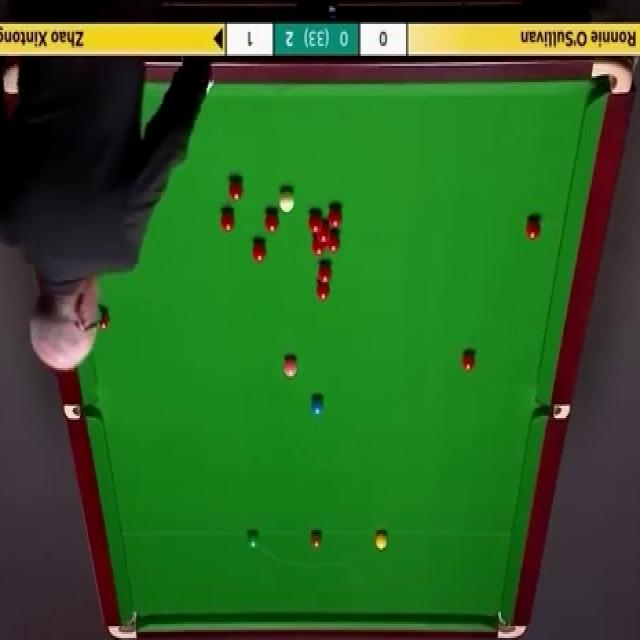blue-ball: (310, 394, 325, 418)
brown-ball: (310, 530, 323, 550)
green-ball: (247, 530, 260, 551)
pink-ball: (280, 352, 300, 380)
red-ball: (226, 174, 244, 201), (524, 217, 541, 240), (264, 209, 280, 233), (251, 240, 267, 264), (220, 208, 236, 232), (459, 351, 476, 373), (96, 307, 111, 331), (308, 210, 324, 232), (317, 262, 332, 283), (328, 206, 342, 228), (326, 230, 341, 250), (311, 237, 326, 256), (316, 279, 331, 298), (317, 225, 330, 242)
white-ball: (278, 186, 296, 212)
yellow-ball: (375, 530, 387, 550)
